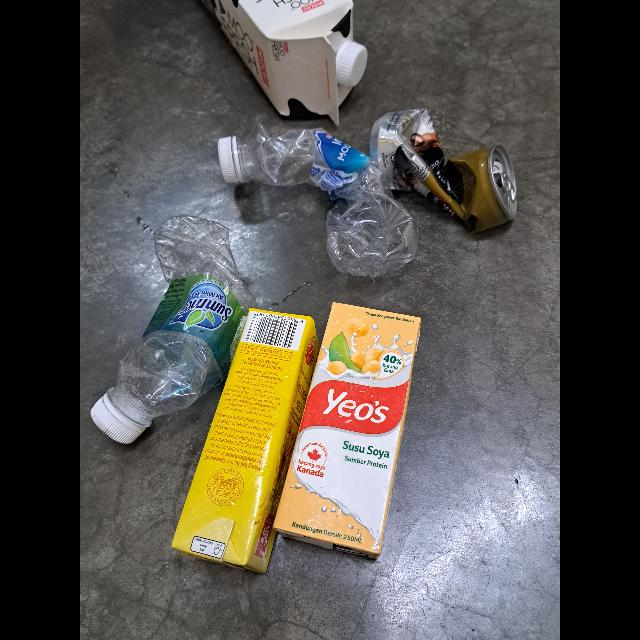aba de lata: (494, 164, 520, 210)
caixinha: (175, 306, 319, 570), (279, 300, 421, 558), (196, 0, 368, 124)
garrafa plástica: (90, 212, 238, 443), (218, 126, 420, 280)
lata: (370, 106, 518, 236)
tampa plástica: (92, 390, 154, 444), (336, 44, 370, 88), (221, 134, 249, 184)
